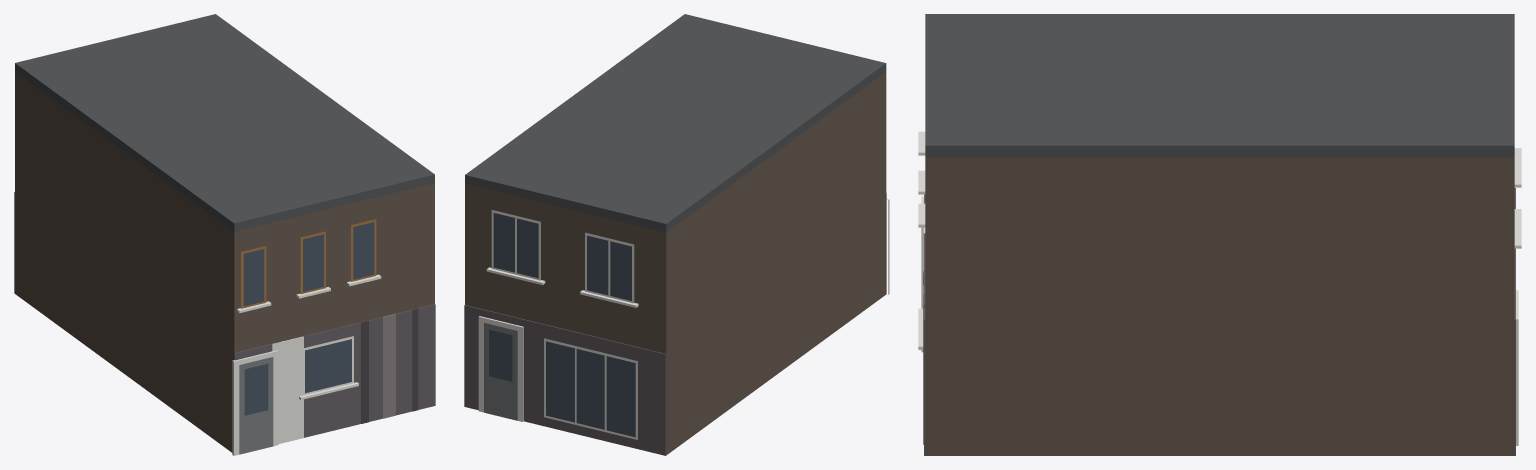
File: th-kz-row__mauve__2__flat__long__solid.glb
3 views of the same model, side by side, from view 1: azimuth 30°, elevation 25°; view 2: azimuth 150°, elevation 25°; view 3: azimuth 270°, elevation 25° (orthographic). The views are drawn at different scales.
Visible parts, largest first — view 1: th-kz-row__mauve__2__flat__long__solid; view 2: th-kz-row__mauve__2__flat__long__solid; view 3: th-kz-row__mauve__2__flat__long__solid.
Part boxes in pixels (bbox=[...]): th-kz-row__mauve__2__flat__long__solid: bbox=[14, 14, 435, 455]; th-kz-row__mauve__2__flat__long__solid: bbox=[464, 14, 889, 455]; th-kz-row__mauve__2__flat__long__solid: bbox=[918, 14, 1521, 455].
Bounding box in the file's own units: 5.44 × 5.92 × 10.44.
